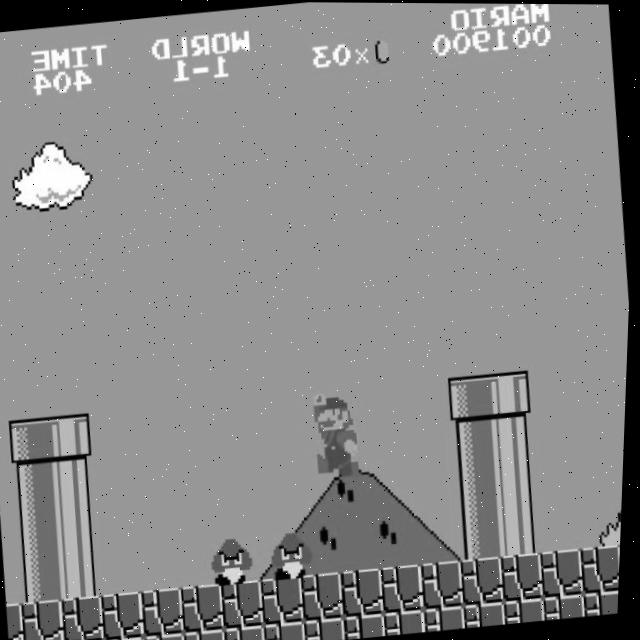0- big_mario: (313, 386, 369, 484)
14- pipe: (495, 459, 543, 510), (56, 503, 104, 553), (16, 507, 64, 557), (60, 548, 107, 599), (499, 505, 546, 555), (456, 464, 503, 514), (459, 509, 506, 559), (20, 552, 67, 602), (452, 418, 499, 467), (53, 458, 100, 507), (493, 414, 539, 464), (14, 462, 60, 511)
15- pipe_head: (488, 368, 536, 419), (448, 373, 496, 423), (9, 416, 57, 466), (50, 412, 97, 462)
17- undestructible_block: (542, 547, 590, 597), (502, 551, 550, 601), (462, 555, 510, 605), (422, 559, 470, 609), (183, 582, 231, 632), (103, 590, 151, 640), (383, 562, 430, 613), (303, 570, 350, 621), (223, 578, 270, 629), (343, 567, 390, 617), (263, 574, 310, 624), (143, 586, 190, 636), (63, 593, 111, 640), (582, 542, 624, 593), (23, 598, 71, 640), (506, 596, 550, 623), (467, 600, 511, 627), (387, 608, 431, 635), (347, 612, 391, 639), (547, 592, 590, 619), (427, 604, 470, 631), (307, 616, 351, 640), (586, 588, 623, 615), (267, 620, 311, 640), (9, 602, 30, 640), (227, 623, 271, 640), (187, 627, 231, 640), (147, 631, 191, 640), (108, 635, 152, 640)
8- goomba: (212, 533, 262, 587), (272, 527, 322, 580)
